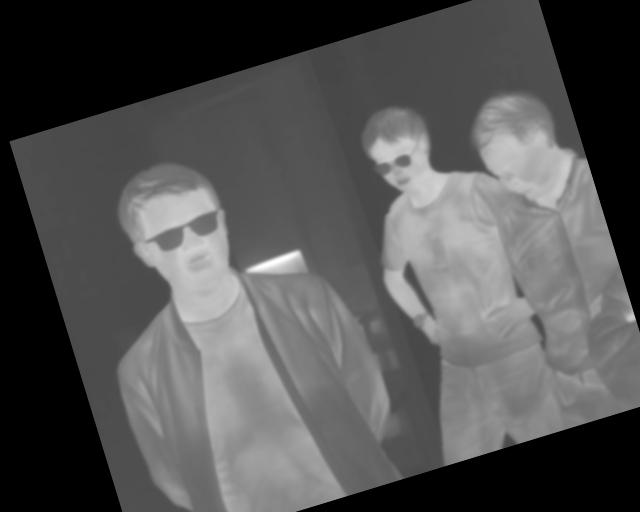face: (106, 147, 245, 310), (460, 77, 575, 215), (352, 95, 446, 201)
